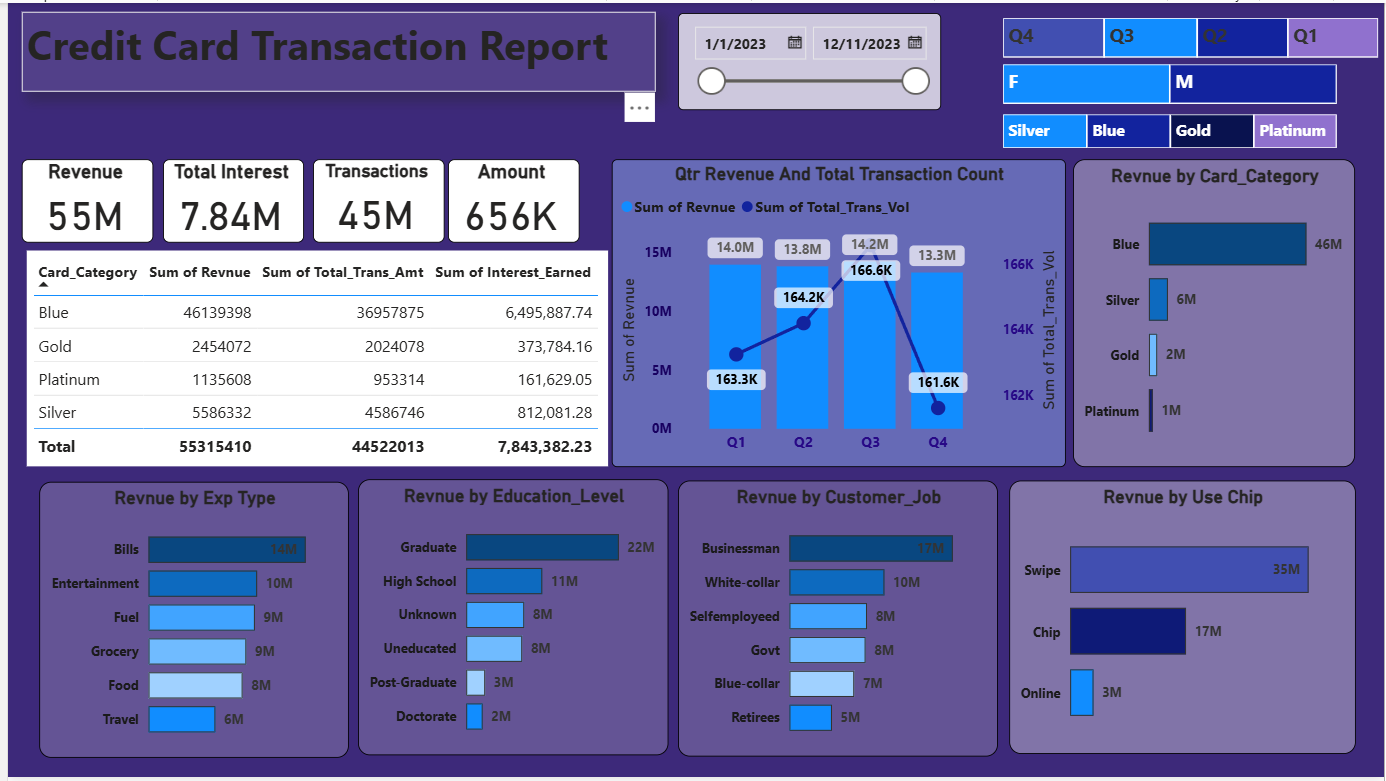

What the dashboard file says about the page in this screenshot:
{"tool":"powerbi","page":{"name":"Credit Card Transaction","canvas":[1280,720],"ordinal":0},"visuals":[{"type":"lineClusteredColumnComboChart","title":"Qtr  Revenue And Total Transaction Count","fields":{"Category":["credit_card.Qtr"],"Y":["Sum(credit_card.Revnue)"],"Y2":["Sum(credit_card.Total_Trans_Vol)"]},"box":[561.2,145,422.5,286.2],"z":0},{"type":"textbox","box":[12.8,8.1,589.5,74.4],"z":1000},{"type":"clusteredBarChart","title":" Revnue by Customer_Job","fields":{"Category":["customer.Customer_Job"],"Y":["Sum(credit_card.Revnue)"]},"box":[623.3,444.4,297.8,256.7],"z":2000},{"type":"clusteredBarChart","title":"Revnue by Education_Level","fields":{"Category":["customer.Education_Level"],"Y":["Sum(credit_card.Revnue)"]},"box":[325.6,443.3,288.9,256.7],"z":3000},{"type":"clusteredBarChart","title":" Revnue by Use Chip","fields":{"Y":["Sum(credit_card.Revnue)"],"Category":["credit_card.Use Chip"]},"box":[931.4,444.2,322.1,254.7],"z":4000},{"type":"clusteredBarChart","title":" Revnue by Card_Category","fields":{"Y":["Sum(credit_card.Revnue)"],"Category":["credit_card.Card_Category"]},"box":[991.2,145,262.5,286.2],"z":5000},{"type":"tableEx","fields":{"Values":["credit_card.Card_Category","Sum(credit_card.Revnue)","Sum(credit_card.Total_Trans_Amt)","Sum(credit_card.Interest_Earned)"]},"box":[17,230.2,540.7,201.2],"z":6000},{"type":"slicer","fields":{"Values":["credit_card.Week_Start_Date"]},"box":[623.8,8.8,245,90],"z":7000},{"type":"card","title":"Revenue","fields":{"Values":["Sum(credit_card.Revnue)"]},"box":[13.3,145.6,122.2,77.8],"z":8000},{"type":"card","title":"Total Interest","fields":{"Values":["Sum(credit_card.Interest_Earned)"]},"box":[144.4,145.6,131.1,77.8],"z":9000},{"type":"card","title":"Transactions","fields":{"Values":["Sum(credit_card.Total_Trans_Amt)"]},"box":[283.7,145.3,122.1,77.9],"z":10000},{"type":"card","title":"Amount","fields":{"Values":["Sum(credit_card.Total_Trans_Vol)"]},"box":[408.9,145.6,122.2,77.8],"z":11000},{"type":"treemap","fields":{"Group":["credit_card.Qtr"],"Values":["Avg(credit_card.Client_Num)"]},"box":[921.2,8.8,358.8,46.2],"z":12000},{"type":"clusteredBarChart","title":" Revnue by Exp Type","fields":{"Y":["Sum(credit_card.Revnue)"],"Category":["credit_card.Exp Type"]},"box":[29.1,445.4,288.4,257],"z":13000},{"type":"treemap","fields":{"Group":["cust_add.Gender"],"Values":["Avg(credit_card.Client_Num)"]},"box":[921.2,52.5,320,46.2],"z":14000},{"type":"treemap","fields":{"Group":["credit_card.Card_Category"],"Values":["Avg(credit_card.Client_Num)"]},"box":[921.2,98.8,320,41.2],"z":15000}]}

Visuals, with their boxes in screenshot pixels (x1, y1, x2, y2), scaled from the page's 1280x720 canvas onto the 1386x781 screenshot:
"Qtr  Revenue And Total Transaction Count" lineClusteredColumnComboChart: (x1=608, y1=157, x2=1065, y2=468)
textbox: (x1=14, y1=9, x2=652, y2=89)
" Revnue by Customer_Job" clusteredBarChart: (x1=675, y1=482, x2=997, y2=760)
"Revnue by Education_Level" clusteredBarChart: (x1=353, y1=481, x2=665, y2=759)
" Revnue by Use Chip" clusteredBarChart: (x1=1009, y1=482, x2=1357, y2=758)
" Revnue by Card_Category" clusteredBarChart: (x1=1073, y1=157, x2=1358, y2=468)
tableEx - credit_card.Card_Category x Sum(credit_card.Revnue): (x1=18, y1=250, x2=604, y2=468)
slicer - credit_card.Week_Start_Date: (x1=675, y1=10, x2=941, y2=107)
"Revenue" card: (x1=14, y1=158, x2=147, y2=242)
"Total Interest" card: (x1=156, y1=158, x2=298, y2=242)
"Transactions" card: (x1=307, y1=158, x2=439, y2=242)
"Amount" card: (x1=443, y1=158, x2=575, y2=242)
treemap - credit_card.Qtr x Avg(credit_card.Client_Num): (x1=997, y1=10, x2=1385, y2=60)
" Revnue by Exp Type" clusteredBarChart: (x1=32, y1=483, x2=344, y2=762)
treemap - cust_add.Gender x Avg(credit_card.Client_Num): (x1=997, y1=57, x2=1344, y2=107)
treemap - credit_card.Card_Category x Avg(credit_card.Client_Num): (x1=997, y1=107, x2=1344, y2=152)
